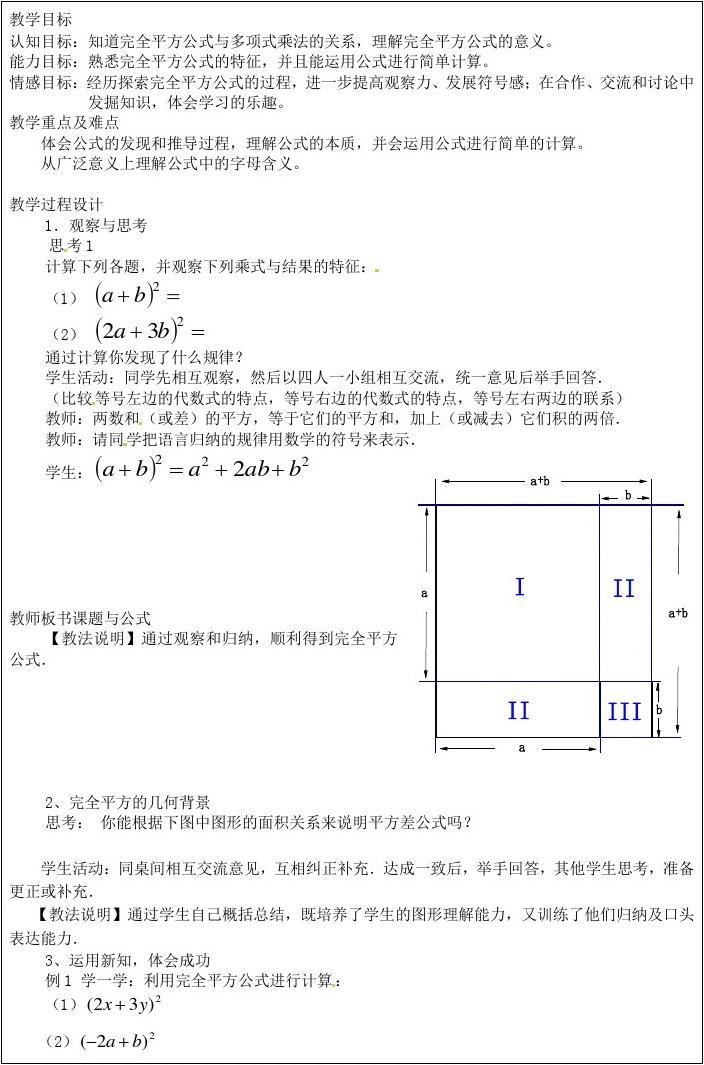square: (150, 275, 169, 298), (296, 455, 316, 472), (150, 448, 166, 469), (194, 453, 214, 469), (143, 1030, 158, 1041), (172, 313, 185, 325), (152, 992, 165, 1003)
